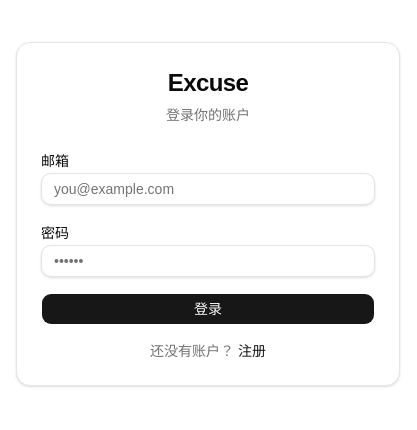
login 页面 › login 抛出错误时显示错误消息
This screenshot has width=417, height=430.
Type "test@example.com" into the field labelled "邮箱".
click(208, 189); type("test@example.com")  # box [41,173,375,205]
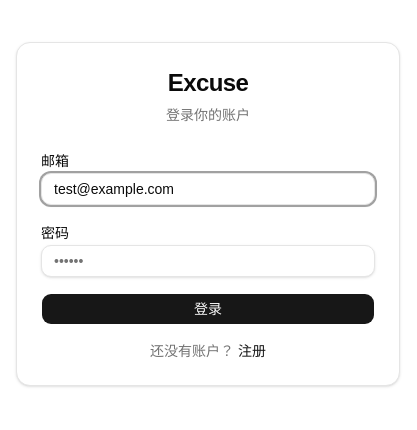
Type "wrong" into the password field labelled "密码".
click(208, 261); type("wrong")  # box [41,245,375,277]
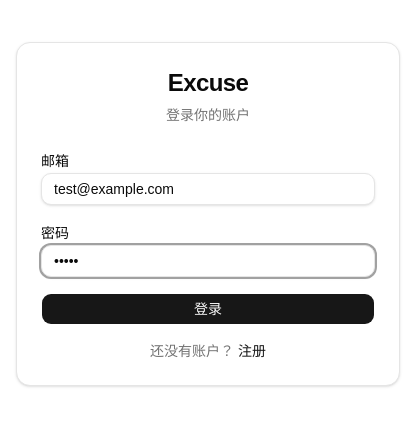
Click the button "登录".
click(208, 309)  # box [41,293,375,325]
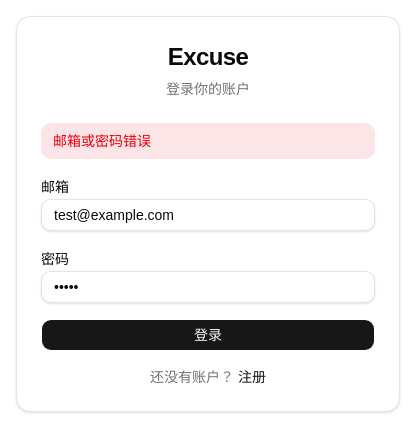
Check: the text "邮箱或密码错误" is shown, box [41,123,375,159]
